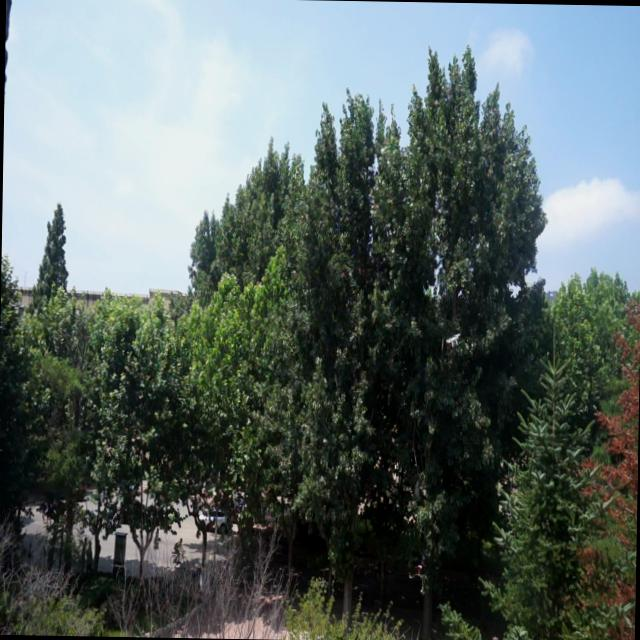drone: (443, 330, 462, 351)
